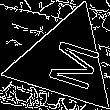M_W: (33, 32, 97, 92)
